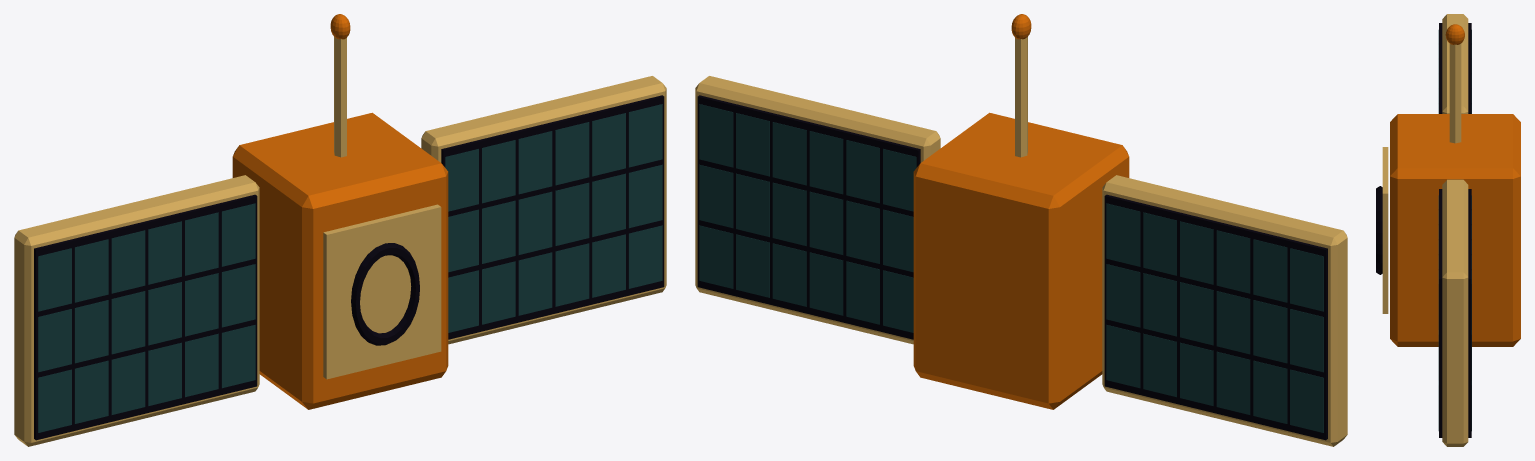
File: satellite_neon6.fbx
3 renders of one model, left to right at view 1: azimuth 30°, elevation 25°; view 2: azimuth 150°, elevation 25°; view 3: azimuth 270°, elevation 25°, orthographic. The views are drawn at different scales.
Parts seen in each view (by area): view 1: Part_1, Part_0, Part_2; view 2: Part_1, Part_0, Part_2; view 3: Part_0, Part_2, Part_1.
Boxes of the visible parts, x1,y1,x2,y2 form: Part_1: [14, 175, 258, 446]; Part_0: [232, 14, 448, 409]; Part_2: [426, 76, 666, 344]; Part_1: [1103, 175, 1347, 446]; Part_0: [913, 14, 1129, 409]; Part_2: [695, 76, 935, 344]; Part_0: [1376, 24, 1520, 346]; Part_2: [1438, 179, 1471, 446]; Part_1: [1438, 14, 1471, 113].
Size of the model in its own units: 3.85 by 2.03 by 0.9.
